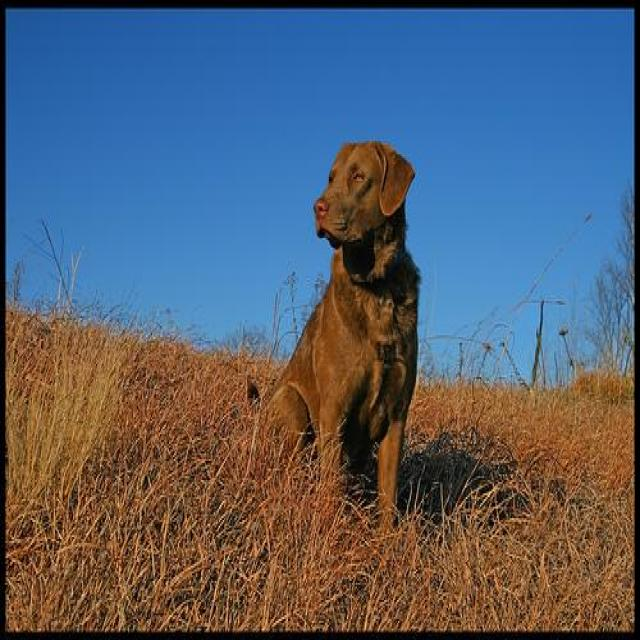sitting: (242, 131, 420, 539)
